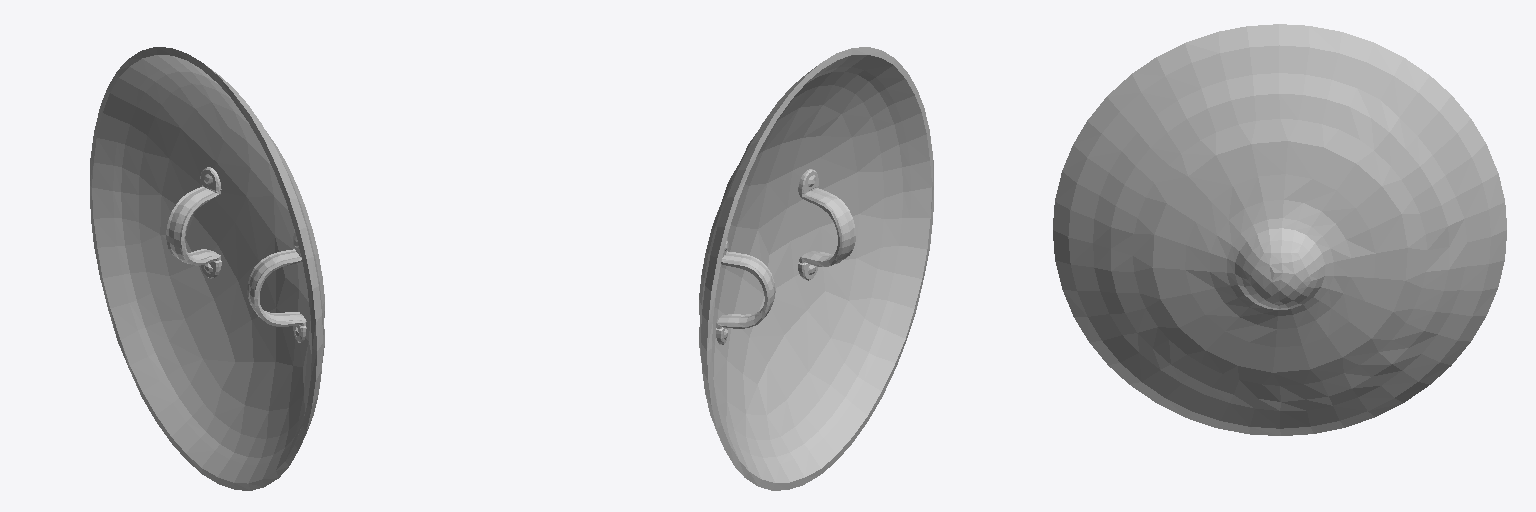
The model's file is Shield v4.obj.
3 views of the same model, side by side, from view 1: azimuth 30°, elevation 25°; view 2: azimuth 150°, elevation 25°; view 3: azimuth 270°, elevation 25° (orthographic).
Parts seen in each view (by area): view 1: Shield_v4; view 2: Shield_v4; view 3: Shield_v4.
Part boxes in pixels (x1,y1,x2,y2): Shield_v4: (90,47,324,490); Shield_v4: (699,47,933,490); Shield_v4: (1053,24,1506,435).
Bounding box in the file's own units: 19.45 × 70.53 × 70.54.